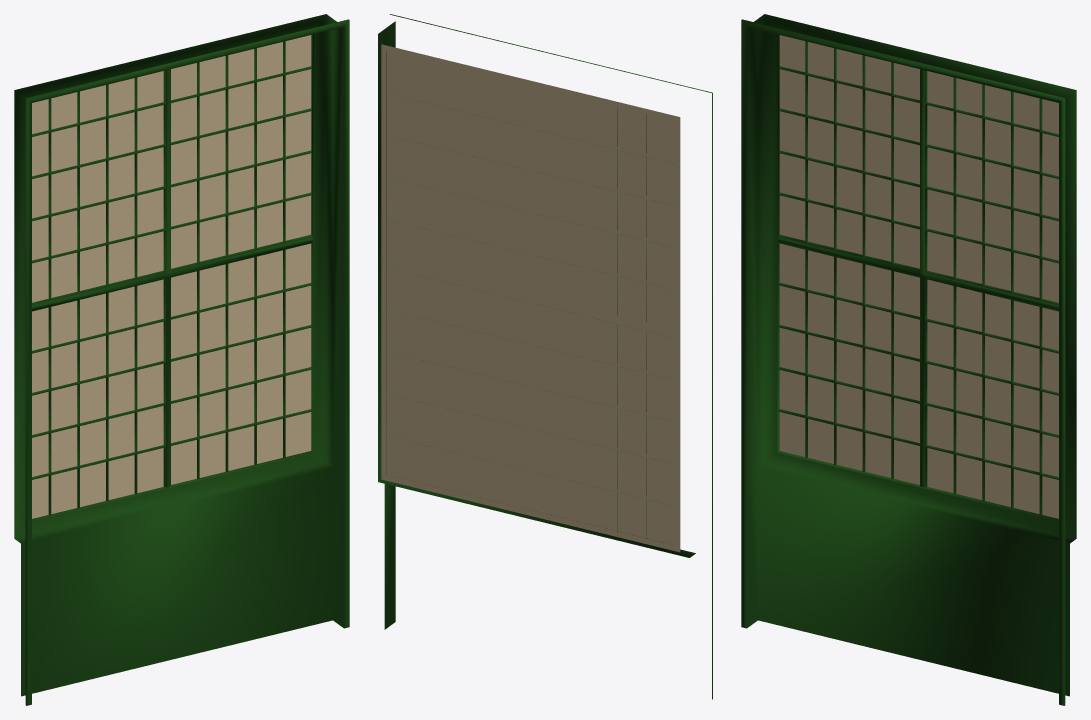
Rendered from Small_Window.FBX.
3 views of the same model, side by side, from view 1: azimuth 30°, elevation 25°; view 2: azimuth 150°, elevation 25°; view 3: azimuth 330°, elevation 25° (orthographic).
Visible parts, largest first — view 1: Small_Window001; view 2: Small_Window001; view 3: Small_Window001.
Part boxes in pixels (x1,y1,x2,y2): Small_Window001: (14,14,349,705); Small_Window001: (378,14,712,699); Small_Window001: (741,14,1076,705).
Size of the model in its own units: 234 by 420 by 26.3.
